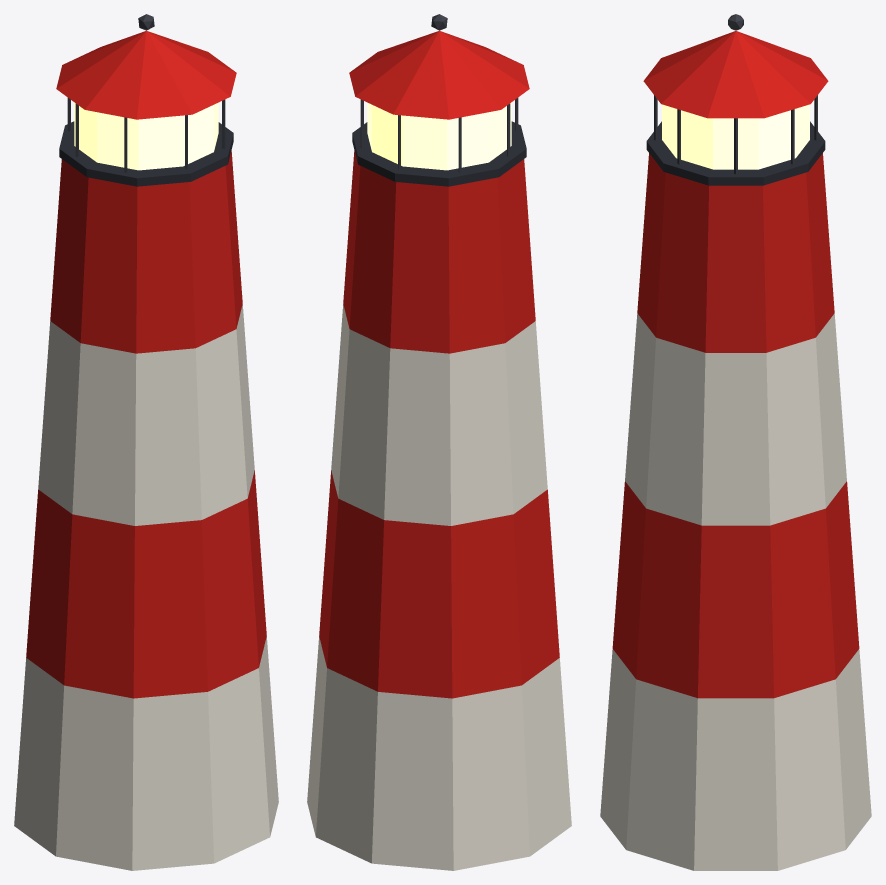
The model's file is lighthouse_tall.glb.
The picture shows the model from 3 angles, left to right: view 1: azimuth 30°, elevation 25°; view 2: azimuth 150°, elevation 25°; view 3: azimuth 270°, elevation 25°; orthographic projection.
Visible parts, largest first — view 1: lighthouse_tall; view 2: lighthouse_tall; view 3: lighthouse_tall.
Boxes of the visible parts, left/top/right/bottom form: lighthouse_tall: left=14, top=14, right=278, bottom=870; lighthouse_tall: left=307, top=14, right=571, bottom=870; lighthouse_tall: left=600, top=14, right=871, bottom=870.
Size of the model in its own units: 4.18 by 14.35 by 4.4.
